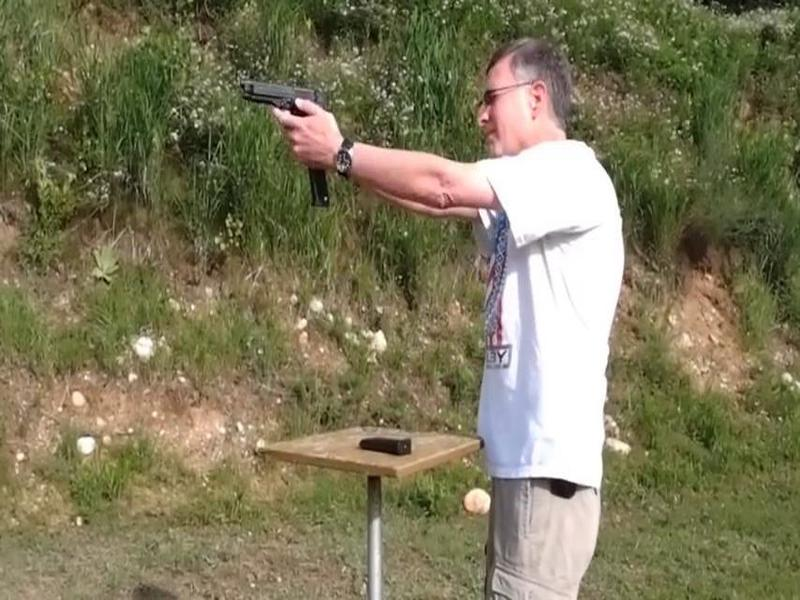Pistola: (221, 61, 337, 185)
